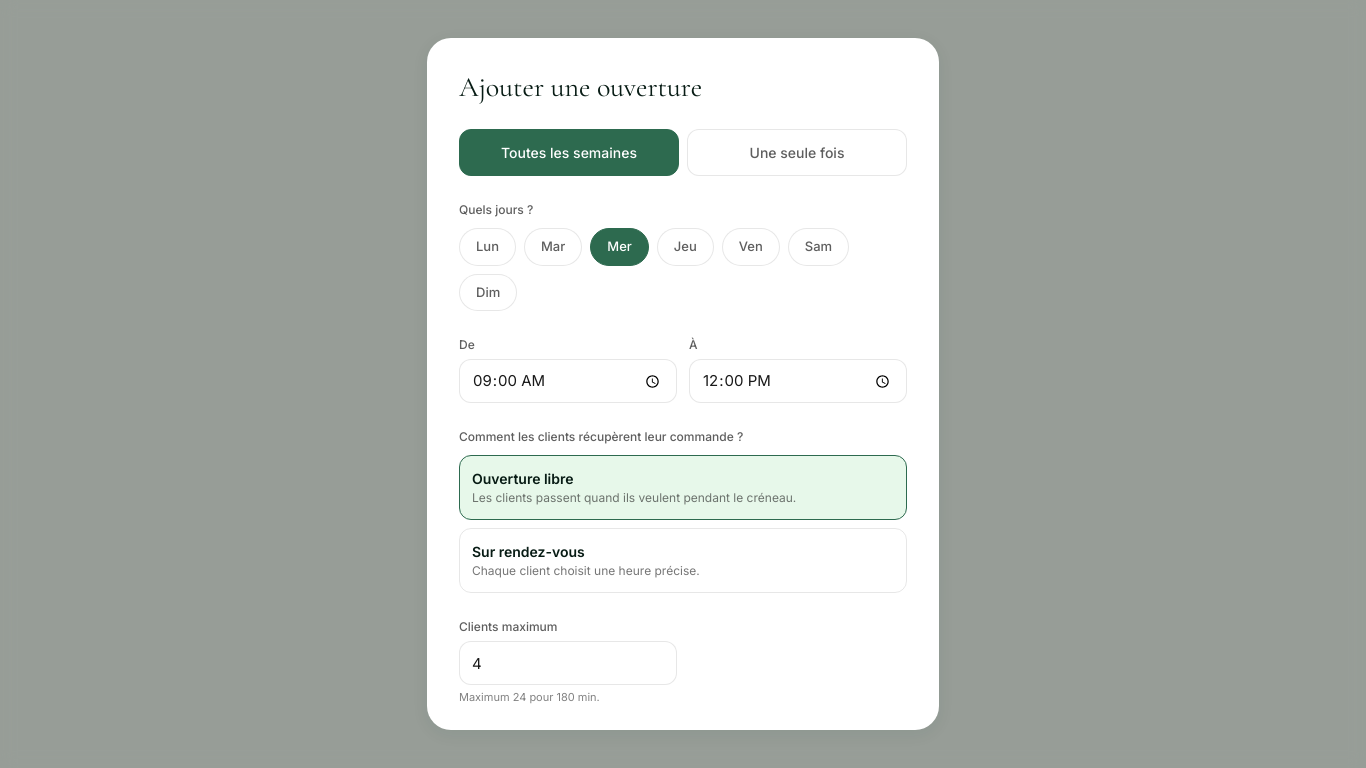
Test: OpeningModal — feedback capacité › mode rdv 30min → hint affiche 'Maximum 4 pour 30 min'
Click the button "Sur rendez-vous Chaque client choisit une heure précise." at (683, 561), box [459,528,907,593]
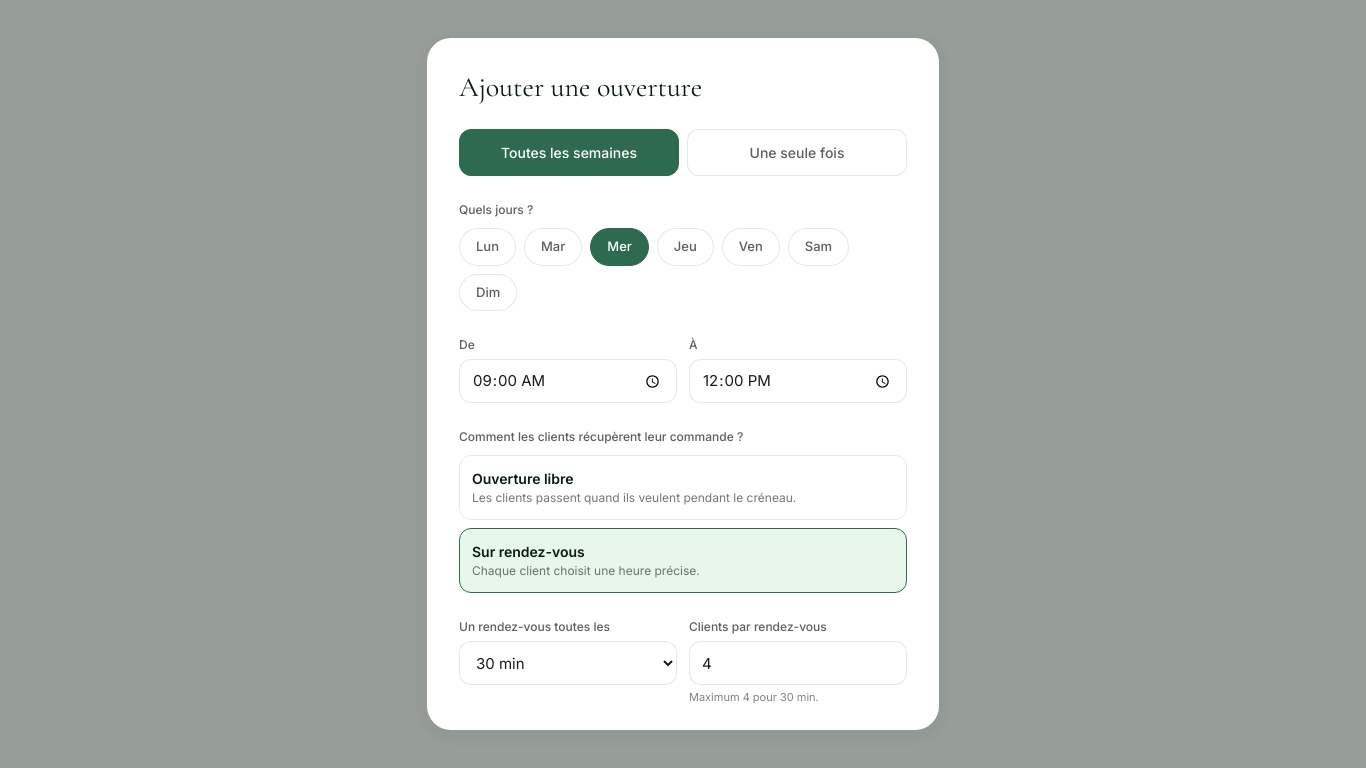
Expected: the text with test id "capacity-hint" shows "Maximum 4", [689,690,819,704]
Expected: the text with test id "capacity-hint" shows "30 min", [689,690,819,704]
